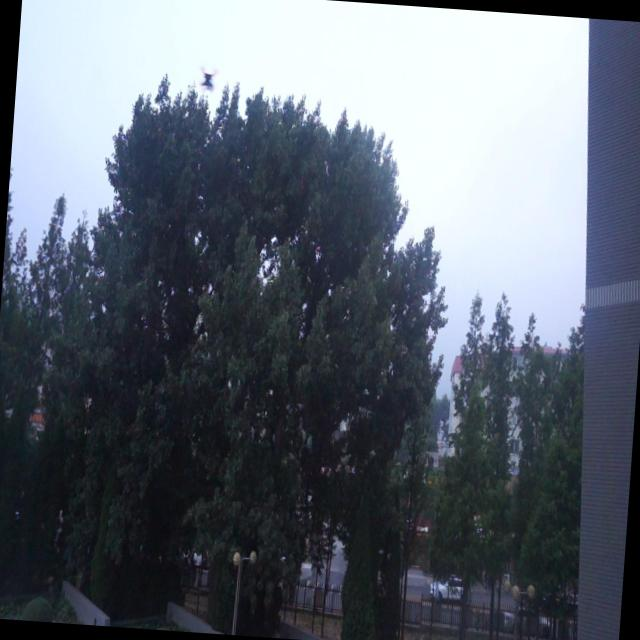drone: (195, 60, 218, 94)
